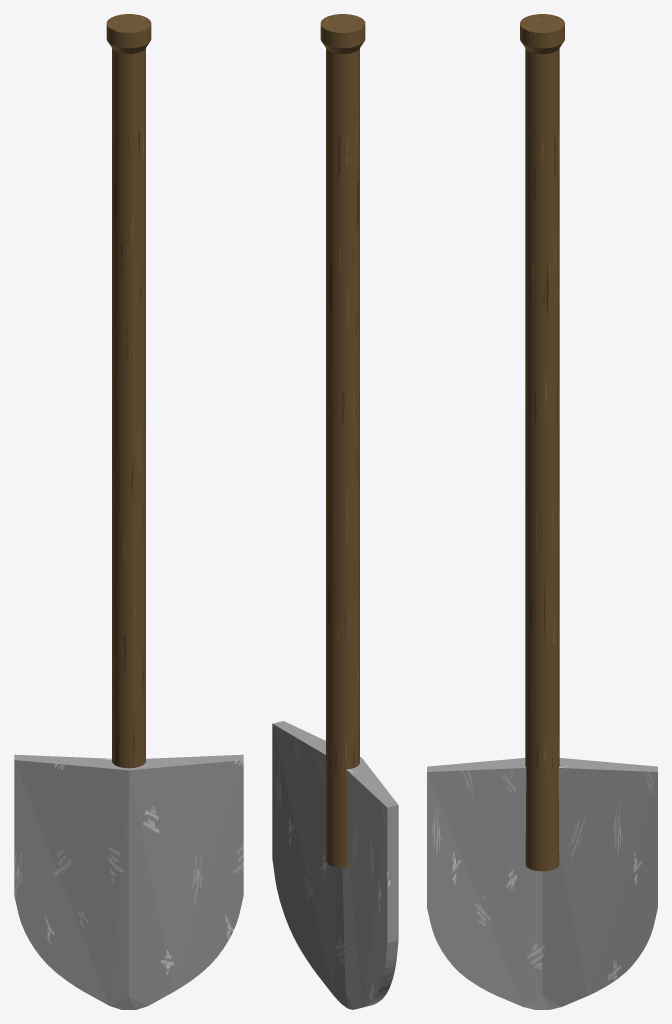
The model's file is pelle.fbx.
The picture shows the model from 3 angles, left to right: view 1: azimuth 90°, elevation 25°; view 2: azimuth 210°, elevation 25°; view 3: azimuth 270°, elevation 25°; orthographic projection.
Parts seen in each view (by area): view 1: Cube; view 2: Cube; view 3: Cube.
Part boxes in pixels (x1,y1,x2,y2): Cube: (14,14,243,1009); Cube: (272,14,398,1009); Cube: (427,14,657,1009).
Bounding box in the file's own units: 33.54 × 810 × 172.
Materials: 2 (2 with a texture image).
